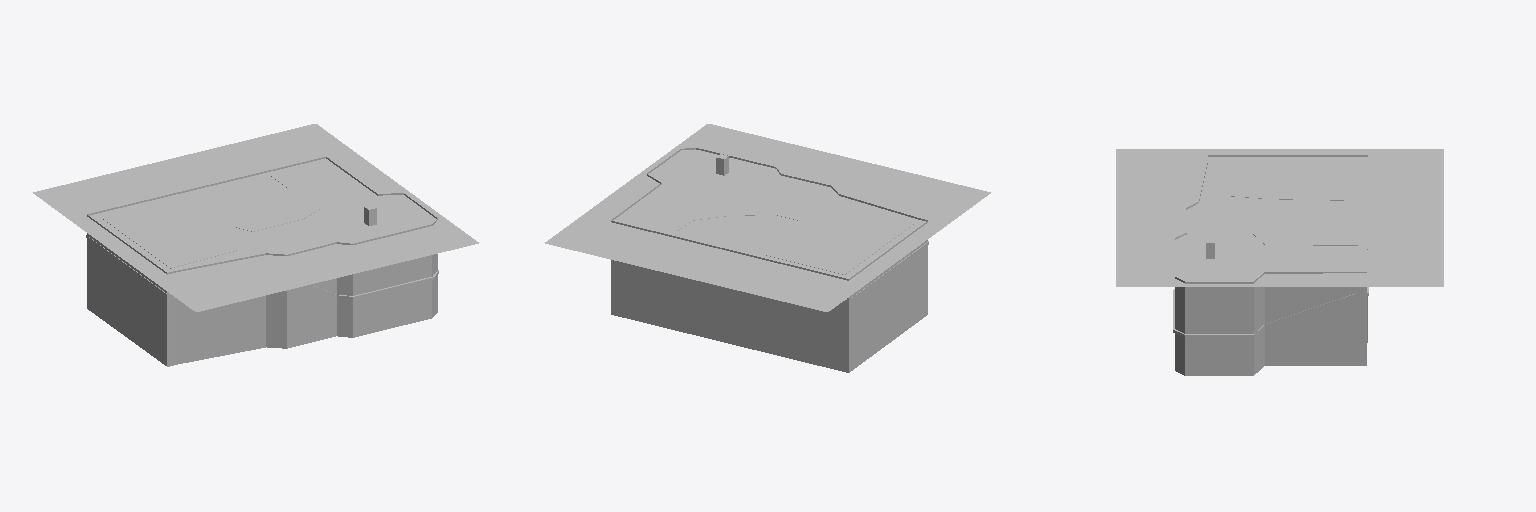
The model's file is rdt24.obj.
3 renders of one model, left to right at view 1: azimuth 30°, elevation 25°; view 2: azimuth 150°, elevation 25°; view 3: azimuth 270°, elevation 25°, orthographic.
Parts seen in each view (by area): view 1: Plane.003, Plane.002, Plane, Plane.001, Cube_Cube.002; view 2: Plane.003, Plane.002, Plane, Plane.001; view 3: Plane.003, Plane.002, Plane, Plane.001, Cube_Cube.002.
Part boxes in pixels (x1,y1,x2,y2): Plane.003: (33, 124, 478, 311); Plane.002: (87, 157, 437, 366); Plane: (101, 198, 238, 268); Plane.001: (236, 176, 319, 231); Cube_Cube.002: (86, 235, 438, 299); Plane.003: (545, 124, 990, 311); Plane.002: (611, 148, 927, 372); Plane: (764, 208, 913, 274); Plane.001: (673, 199, 797, 232); Plane.003: (1116, 149, 1443, 286); Plane.002: (1175, 155, 1367, 375); Plane: (1219, 161, 1358, 200); Plane.001: (1253, 206, 1357, 245); Cube_Cube.002: (1173, 287, 1368, 337).
Size of the model in its own units: 28.4 by 10.4 by 28.4.